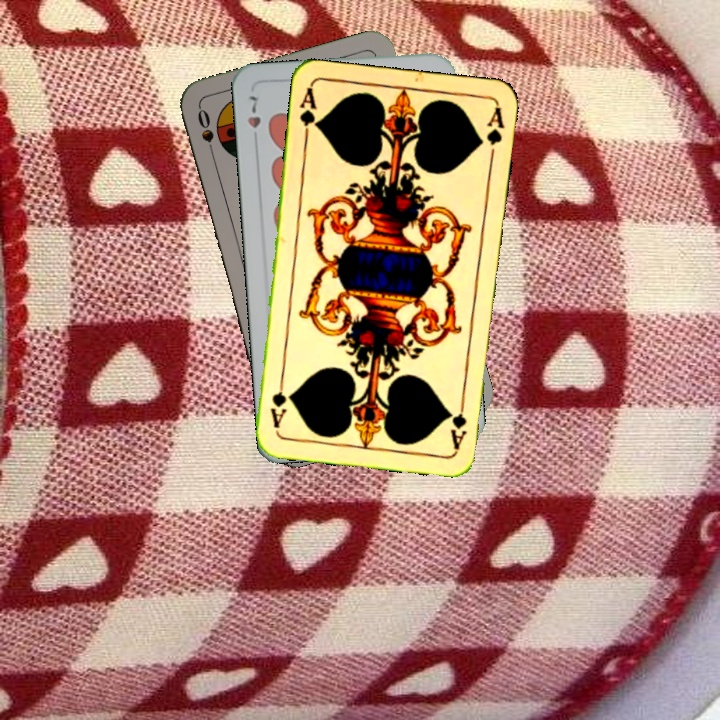GA: (295, 84, 322, 143), (447, 392, 470, 451)
H7: (243, 91, 263, 148)
SO: (193, 104, 218, 163)
